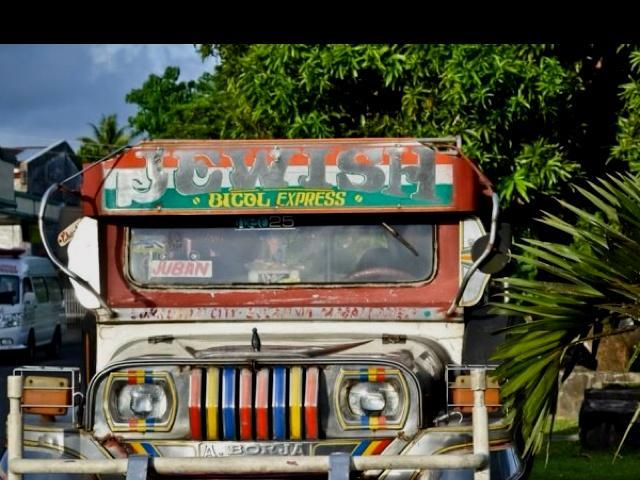jeepney: (8, 125, 523, 480)
